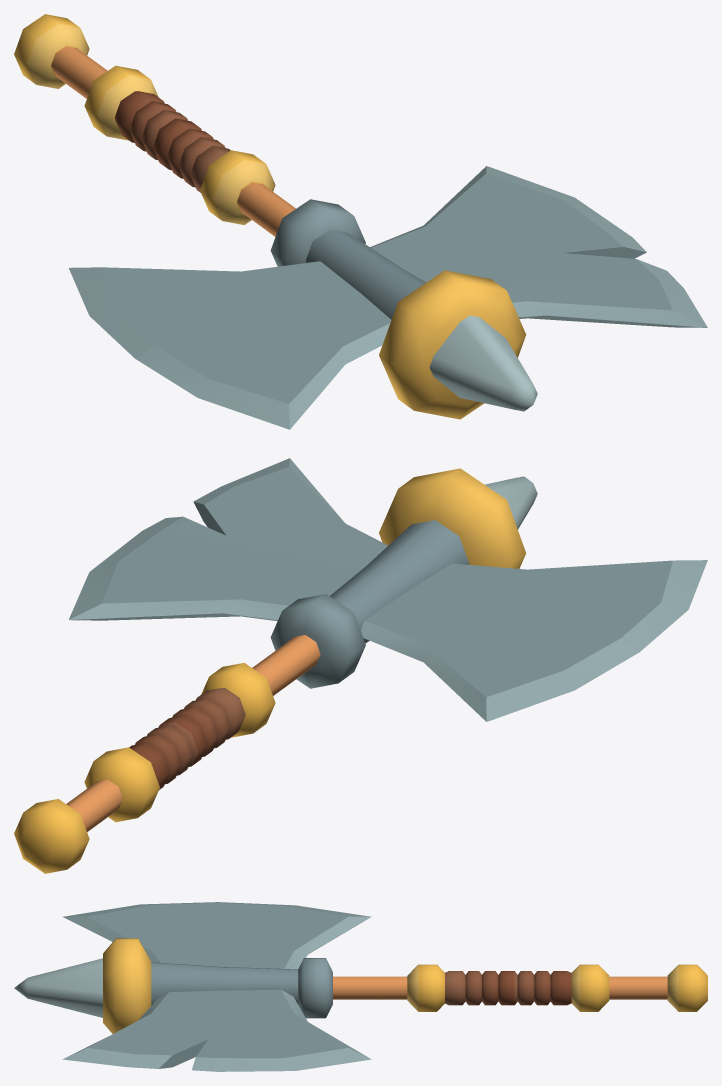
The model's file is axe_01.fbx.
3 views of the same model, one above another, from view 1: azimuth 30°, elevation 25°; view 2: azimuth 150°, elevation 25°; view 3: azimuth 270°, elevation 25° (orthographic). The views are drawn at different scales.
Parts seen in each view (by area): view 1: axe_01; view 2: axe_01; view 3: axe_01.
Part boxes in pixels (left/top/right/bottom): axe_01: left=14, top=14, right=707, bottom=429; axe_01: left=14, top=458, right=707, bottom=873; axe_01: left=14, top=902, right=707, bottom=1071.
Size of the model in its own units: 0.7125 by 0.1885 by 1.23.
Materials: 3 (3 with a texture image).
